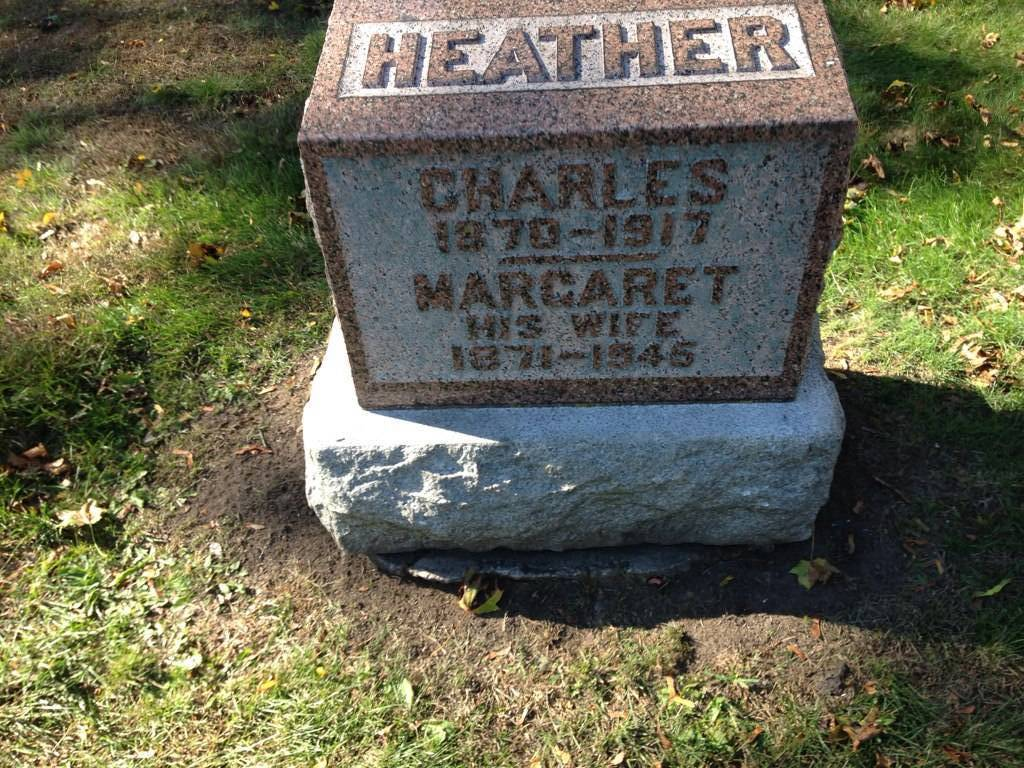upright: (295, 0, 854, 551)
